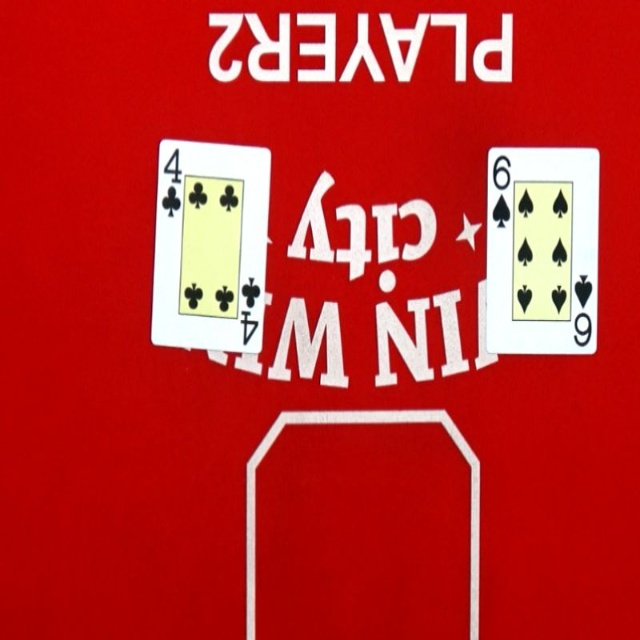4C: (235, 276, 262, 354), (156, 145, 182, 225)
6S: (570, 270, 598, 352), (487, 151, 514, 231)
